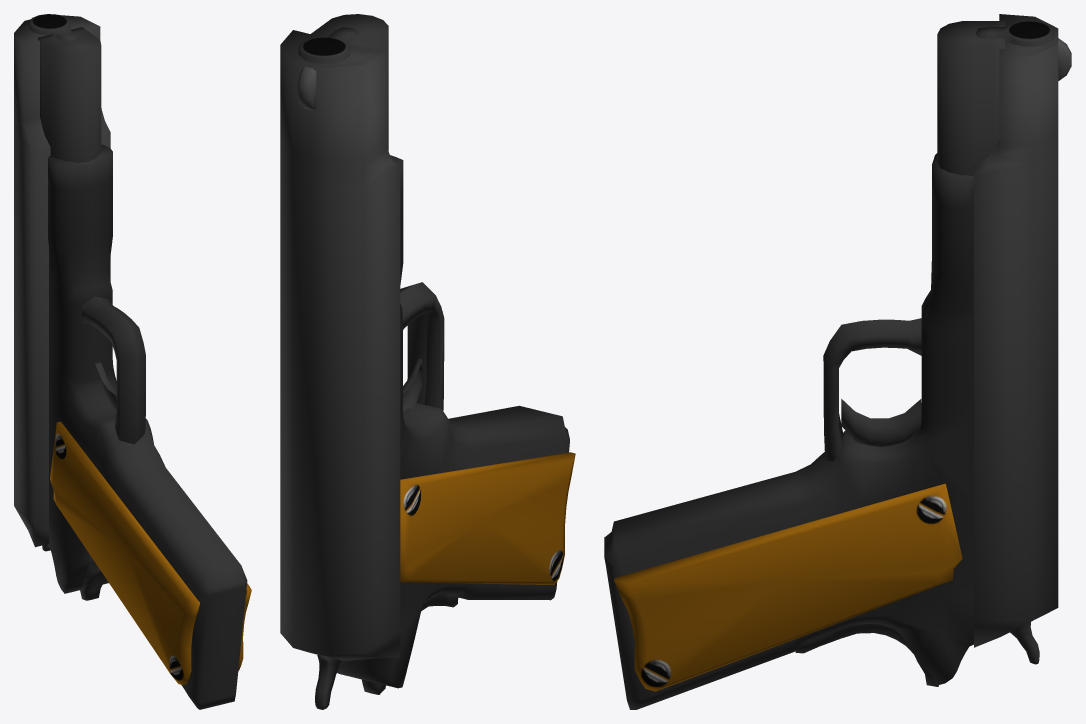
File: hund_gun.fbx
The picture shows the model from 3 angles, left to right: view 1: azimuth 30°, elevation 25°; view 2: azimuth 150°, elevation 25°; view 3: azimuth 270°, elevation 25°; orthographic projection. The views are drawn at different scales.
Visible parts, largest first — view 1: obj1; view 2: obj1; view 3: obj1.
Boxes of the visible parts, x1=… form: obj1: x1=14, y1=14, x2=251, y2=709; obj1: x1=280, y1=14, x2=575, y2=709; obj1: x1=604, y1=14, x2=1071, y2=709.
Size of the model in its own units: 65.74 by 466 by 295.
1 material, 1 textured.
